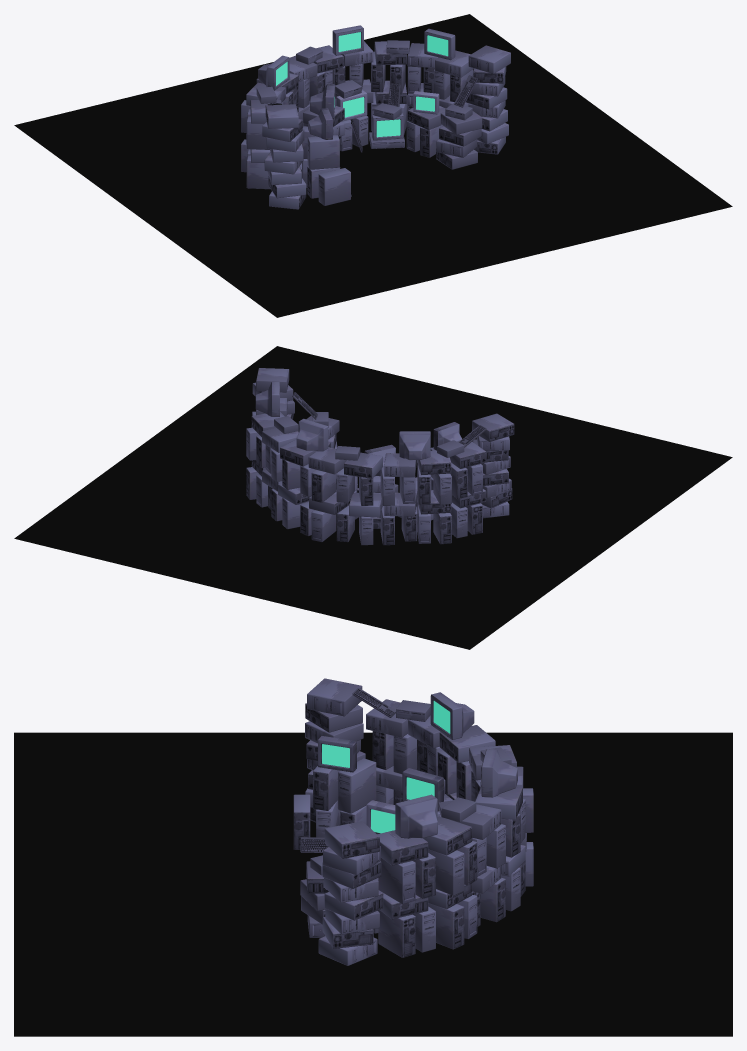
File: computers.glb
3 views of the same model, one above another, from view 1: azimuth 30°, elevation 25°; view 2: azimuth 150°, elevation 25°; view 3: azimuth 270°, elevation 25° (orthographic). The views are drawn at different scales.
Visible parts, largest first — view 1: Plane_5, PC 01.011_30, PC 01.010_29, PC 02.026_76, Screen D.003_109, Screen D.004_110, PC 02.012_38, Screen D.002_108, Screen D.001_105, PC 01.052_97, Screen C.001_102, PC 01.007_23 (+14 smaller); view 2: Plane_5, Screen D.003_109, Screen D.002_108, PC 02.012_38, PC 01.032_64, PC 02.021_61, PC 02.016_47, PC 01.033_65, PC 01.031_63, PC 02.026_76, Screen D.004_110, PC 02.022_66 (+14 smaller); view 3: Plane_5, PC 01.005_17, Screen D.004_110, PC 02.026_76, PC 02.012_38, Screen D.002_108, PC 02.027_78, PC 02.032_90, Screen D.003_109, PC 01.052_97, Screen B.002_107, PC 01.047_89 (+36 smaller).
Part boxes in pixels (x1=…): Plane_5: x1=14, y1=14, x2=732, y2=317; PC 01.011_30: x1=318, y1=168, x2=350, y2=205; PC 01.010_29: x1=307, y1=135, x2=339, y2=169; PC 02.026_76: x1=468, y1=45, x2=510, y2=73; Screen D.003_109: x1=332, y1=25, x2=363, y2=55; Screen D.004_110: x1=424, y1=28, x2=455, y2=60; PC 02.012_38: x1=265, y1=104, x2=298, y2=128; Screen D.002_108: x1=258, y1=55, x2=289, y2=90; Screen D.001_105: x1=372, y1=113, x2=403, y2=140; PC 01.052_97: x1=435, y1=50, x2=473, y2=77; Screen C.001_102: x1=336, y1=90, x2=367, y2=121; PC 01.007_23: x1=440, y1=111, x2=482, y2=134; Plane_5: x1=14, y1=346, x2=732, y2=649; Screen D.003_109: x1=296, y1=418, x2=328, y2=451; Screen D.002_108: x1=399, y1=431, x2=430, y2=460; PC 02.012_38: x1=472, y1=413, x2=514, y2=441; PC 01.032_64: x1=344, y1=452, x2=382, y2=478; PC 02.021_61: x1=311, y1=470, x2=336, y2=502; PC 02.016_47: x1=311, y1=510, x2=336, y2=541; PC 01.033_65: x1=308, y1=447, x2=346, y2=474; PC 01.031_63: x1=384, y1=453, x2=416, y2=477; PC 02.026_76: x1=256, y1=368, x2=289, y2=392; Screen D.004_110: x1=255, y1=382, x2=279, y2=416; PC 02.022_66: x1=417, y1=450, x2=451, y2=474; Plane_5: x1=14, y1=732, x2=732, y2=1036; PC 01.005_17: x1=338, y1=758, x2=376, y2=813; Screen D.004_110: x1=395, y1=794, x2=437, y2=838; PC 02.026_76: x1=324, y1=821, x2=379, y2=858; PC 02.012_38: x1=307, y1=678, x2=362, y2=716; Screen D.002_108: x1=430, y1=692, x2=474, y2=739; PC 02.027_78: x1=378, y1=910, x2=415, y2=957; PC 02.032_90: x1=378, y1=857, x2=415, y2=904; Screen D.003_109: x1=481, y1=749, x2=517, y2=797; PC 01.052_97: x1=377, y1=830, x2=428, y2=865; Screen B.002_107: x1=318, y1=736, x2=356, y2=772; PC 01.047_89: x1=428, y1=849, x2=464, y2=895.
Bounding box in the file's own units: 26 × 5.52 × 26.
3 materials, 1 textured.
